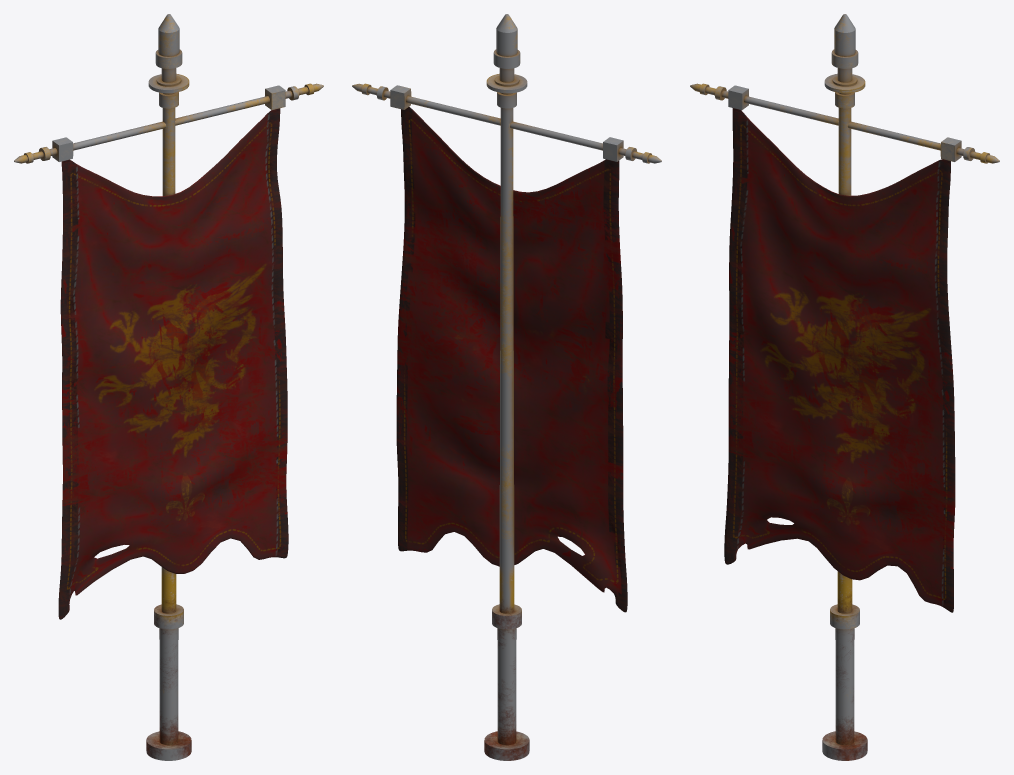
File: IthacaBanner.obj
The picture shows the model from 3 angles, left to right: view 1: azimuth 30°, elevation 25°; view 2: azimuth 150°, elevation 25°; view 3: azimuth 330°, elevation 25°; orthographic projection.
Visible parts, largest first — view 1: flag, pole; view 2: flag, pole; view 3: flag, pole.
Boxes of the visible parts, left/top/right/bottom form: flag: left=58, top=108, right=288, bottom=619; pole: left=14, top=14, right=323, bottom=760; flag: left=396, top=106, right=627, bottom=612; pole: left=352, top=14, right=661, bottom=760; flag: left=724, top=108, right=955, bottom=612; pole: left=690, top=14, right=999, bottom=760.
Size of the model in its own units: 0.5925 by 1.35 by 0.0738.
Materials: 2 (2 with a texture image).
